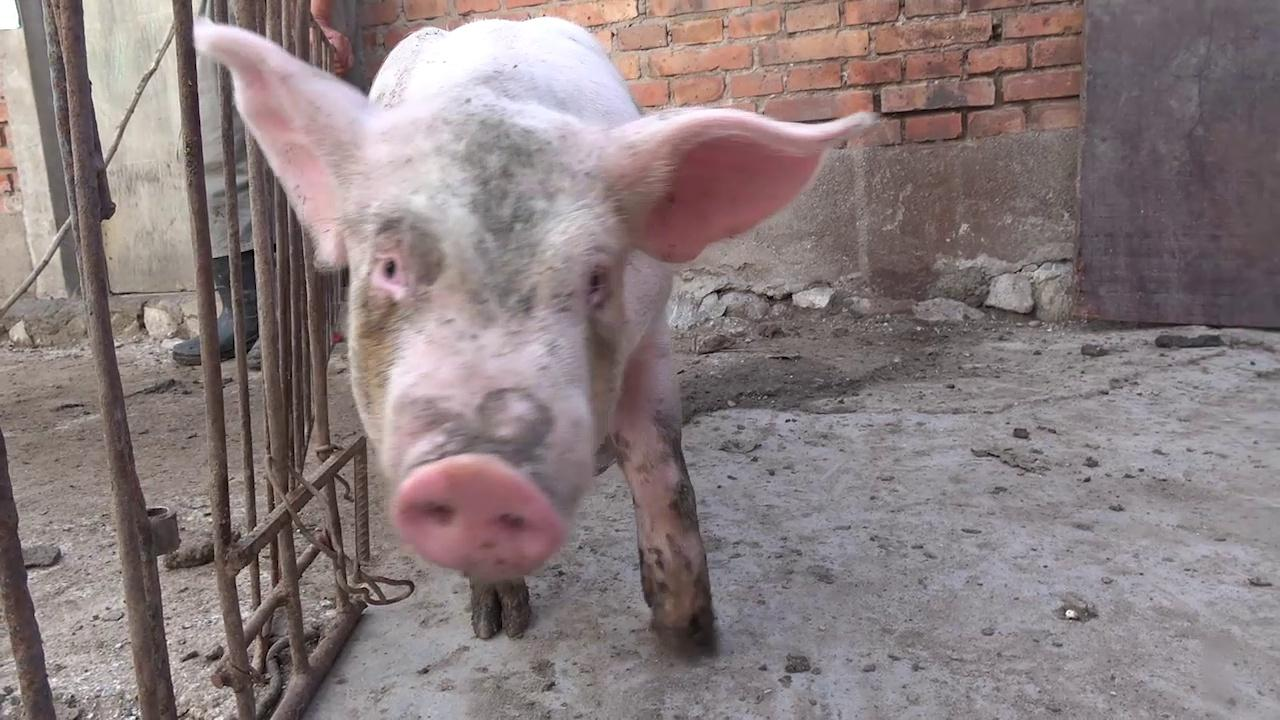Face: (183, 12, 878, 588)
